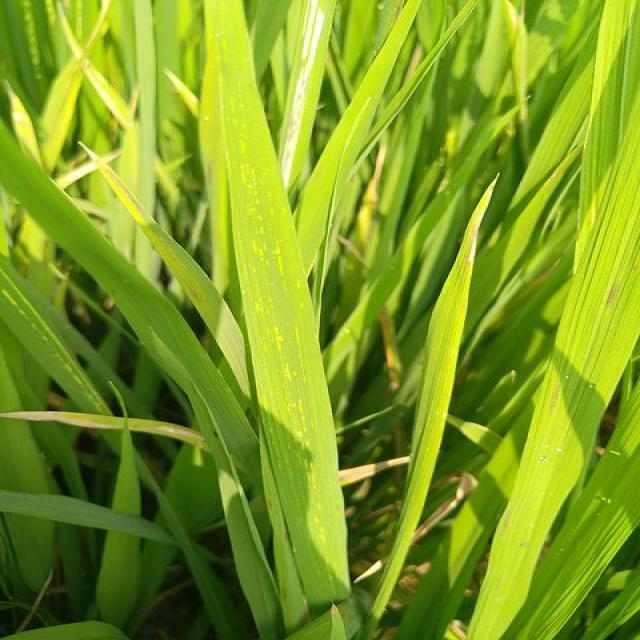Leaf Blight: (1, 411, 211, 452), (83, 58, 131, 128), (339, 457, 411, 484), (55, 0, 87, 58)
Leaf Streak: (204, 0, 348, 602), (279, 0, 324, 203)
